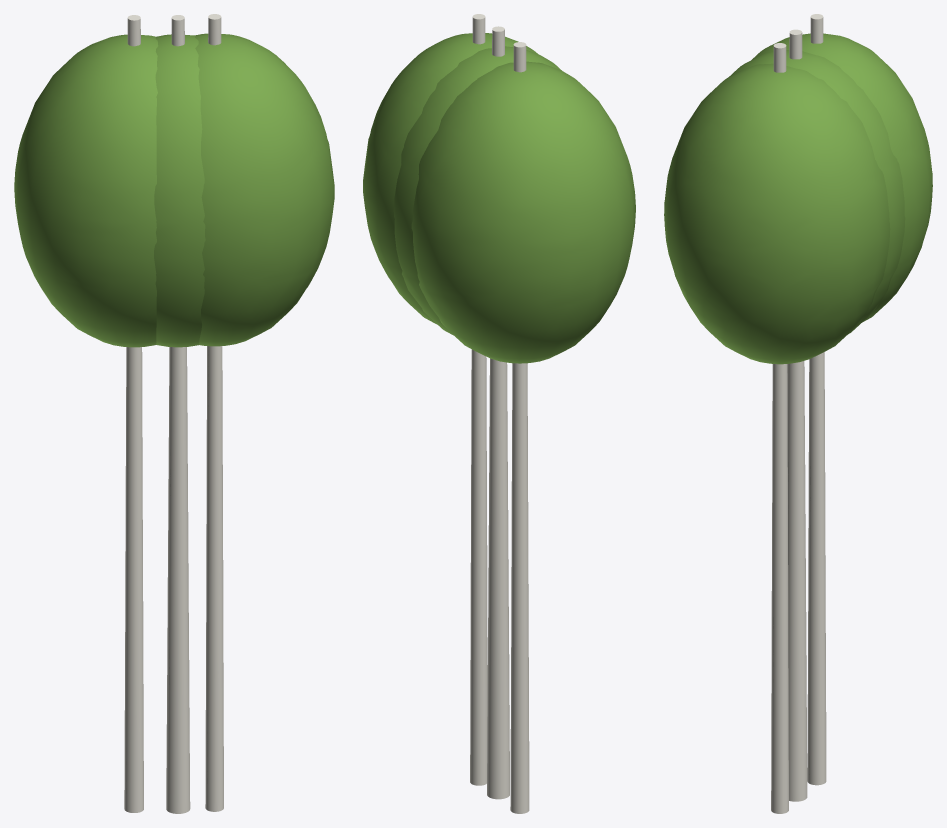
File: e06-white-birch.glb
The picture shows the model from 3 angles, left to right: view 1: azimuth 30°, elevation 25°; view 2: azimuth 150°, elevation 25°; view 3: azimuth 270°, elevation 25°; orthographic projection. The views are drawn at different scales.
Visible parts, largest first — view 1: part3, part5, part1, part0, part2, part4; view 2: part3, part5, part0, part2, part4, part1; view 3: part5, part3, part0, part2, part4, part1.
Part boxes in pixels (x1,y1,x2,y2): part3: (14, 34, 158, 347); part5: (194, 33, 334, 346); part1: (154, 34, 205, 347); part0: (166, 15, 190, 813); part2: (124, 15, 143, 812); part4: (205, 14, 223, 811); part3: (411, 61, 635, 363); part5: (363, 33, 537, 324); part0: (487, 26, 509, 799); part2: (510, 42, 529, 813); part4: (470, 14, 487, 785); part1: (393, 46, 561, 335); part5: (664, 63, 890, 364); part3: (752, 33, 932, 321); part0: (787, 29, 807, 801); part2: (807, 14, 826, 785); part4: (771, 43, 788, 813); part1: (729, 50, 905, 333).
Bounding box in the file's own units: 5699 × 16000 × 5096.
